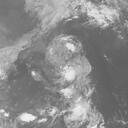cyclone: (47, 40, 89, 98)
